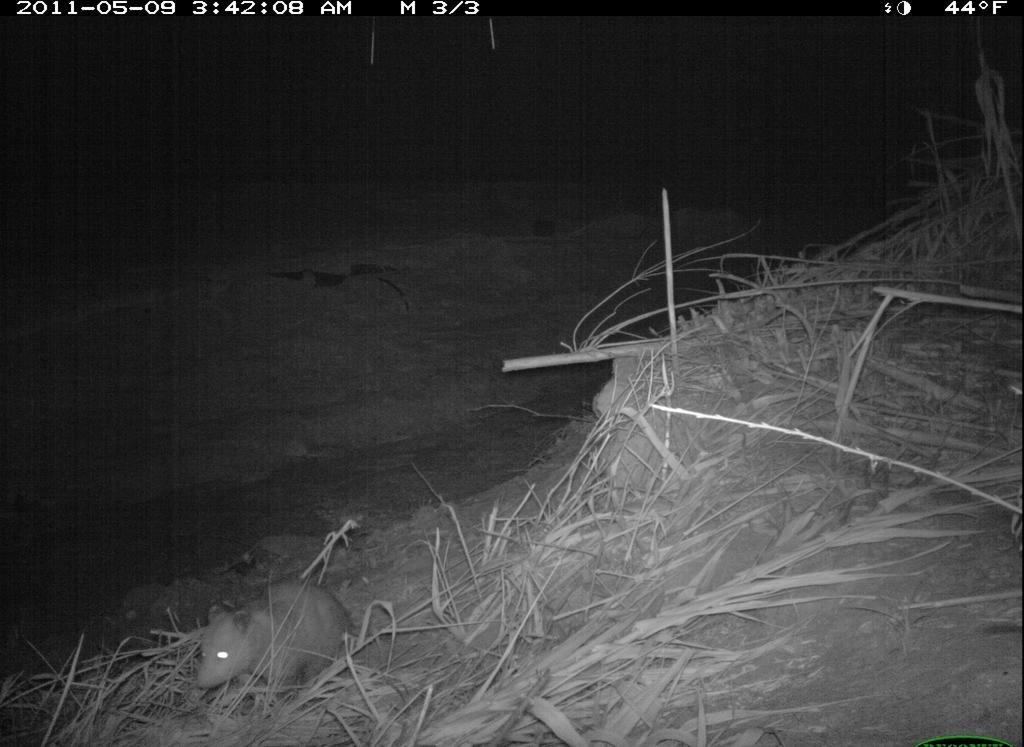opossum: (187, 571, 374, 716)
